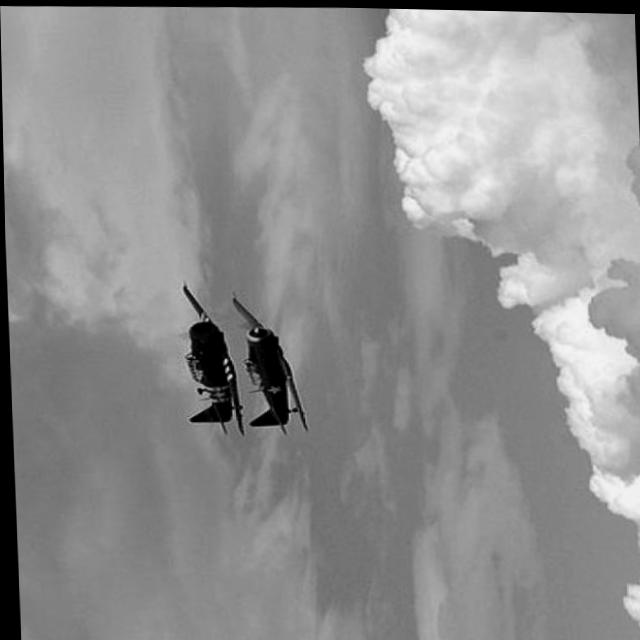aeroplane: (163, 275, 245, 437), (221, 289, 305, 433)
